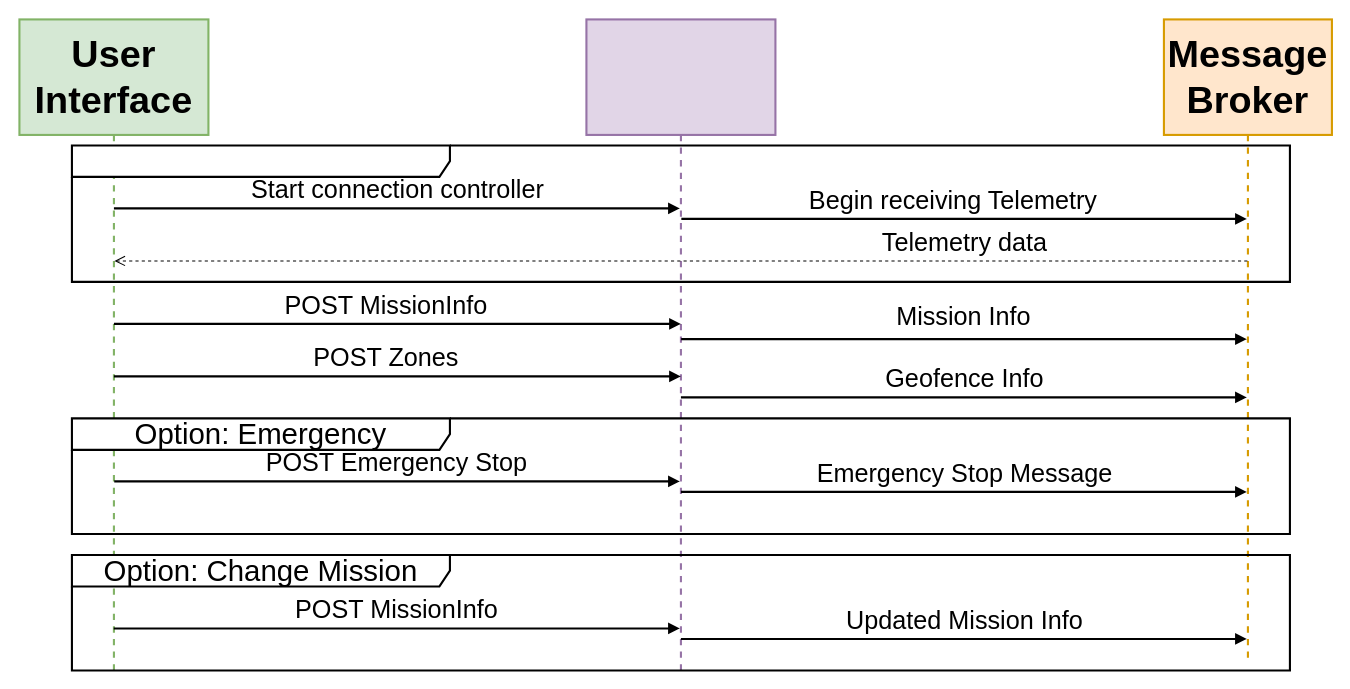
Image size: 1350x689. Some labels were removed from this diagram. The shapes that lost their labels are listed below. From the top down, each one's box as (x1, y1, x2, y2) in pixels, then its label:
(70, 144, 1290, 282): Loop: Active Connection
(585, 18, 776, 671): Database API
